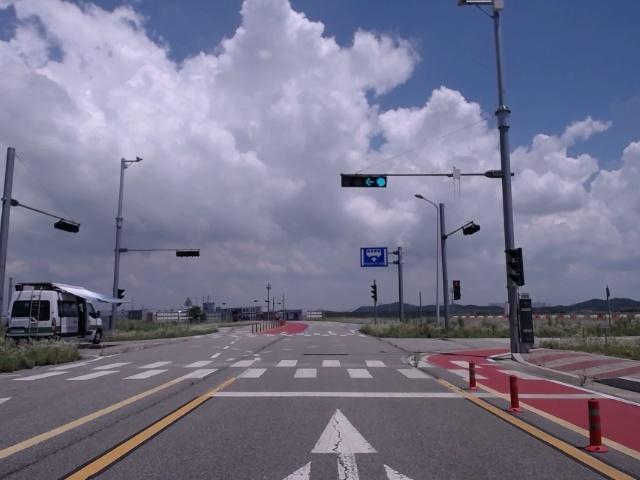all_green_4: (341, 175, 389, 188)
